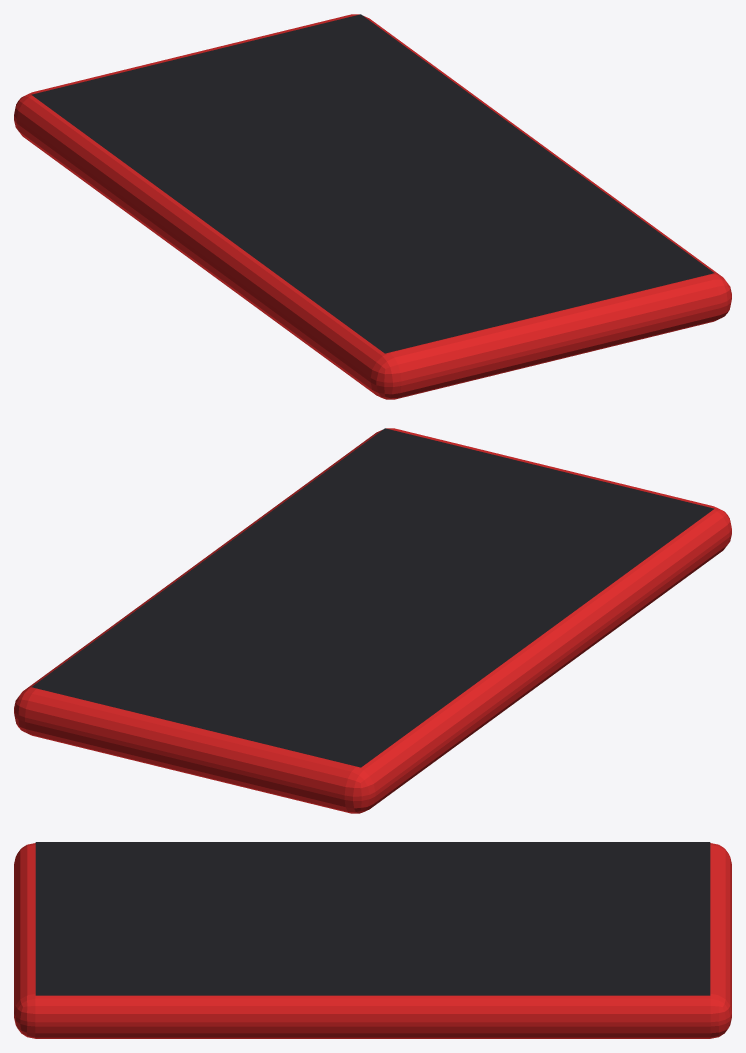
The model's file is infinix-gen-2026-mid-range-2026.glb.
3 views of the same model, one above another, from view 1: azimuth 30°, elevation 25°; view 2: azimuth 150°, elevation 25°; view 3: azimuth 270°, elevation 25° (orthographic). The views are drawn at different scales.
Visible parts, largest first — view 1: Phone_Screen, Phone_Body; view 2: Phone_Screen, Phone_Body; view 3: Phone_Screen, Phone_Body.
Part boxes in pixels (bbox=[...]): Phone_Screen: bbox=[31, 14, 714, 353]; Phone_Body: bbox=[14, 14, 731, 399]; Phone_Screen: bbox=[31, 428, 714, 767]; Phone_Body: bbox=[14, 428, 731, 813]; Phone_Screen: bbox=[35, 842, 710, 995]; Phone_Body: bbox=[14, 843, 731, 1038].
Size of the model in its own units: 0.0781 by 0.0095 by 0.142.
